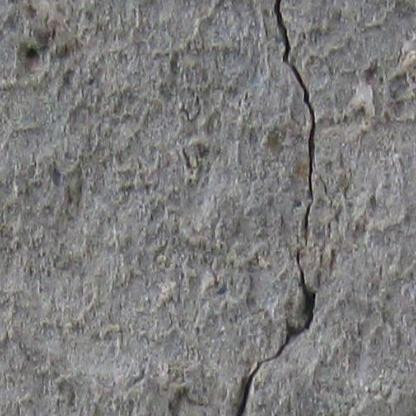Cracks: (227, 0, 318, 416)
